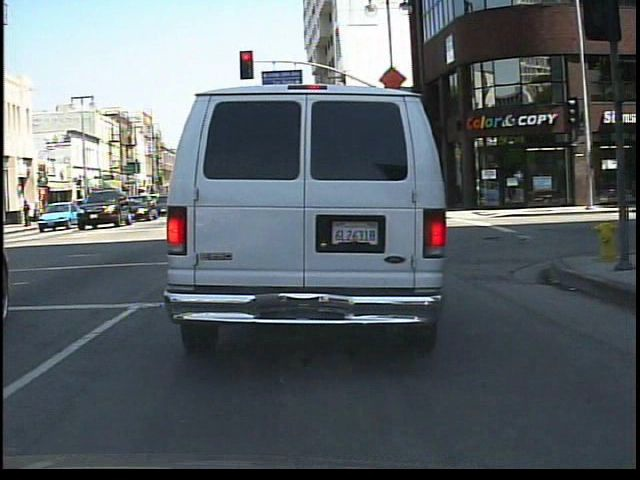person: (22, 198, 34, 229)
